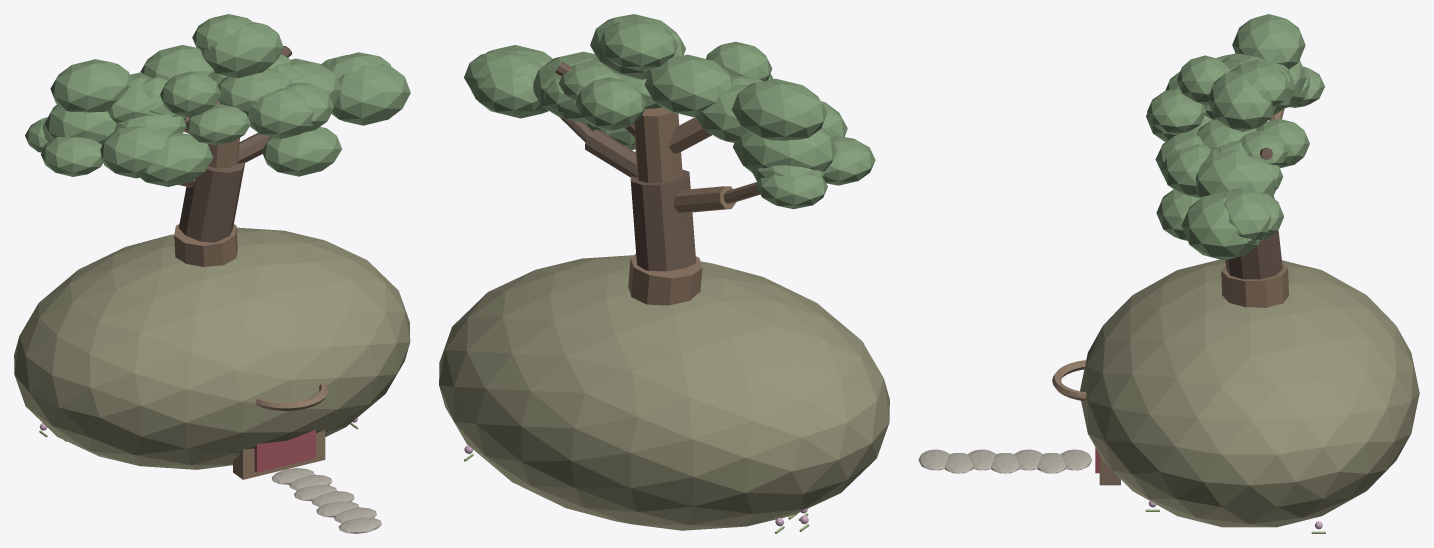
The model's file is Midgard_Ash_Grove_Mound_V1_YUP.glb.
The picture shows the model from 3 angles, left to right: view 1: azimuth 30°, elevation 25°; view 2: azimuth 150°, elevation 25°; view 3: azimuth 270°, elevation 25°; orthographic projection. The views are drawn at different scales.
Visible parts, largest first — view 1: Mound_Core, Trunk_1, Leaf_13, Leaf_9, Leaf_3, Leaf_7, Leaf_22, Leaf_14, Leaf_15, Leaf_26, Leaf_0, Leaf_6 (+18 smaller); view 2: Mound_Core, Trunk_1, Leaf_9, Leaf_2, Leaf_11, Leaf_16, Trunk_2, Leaf_27, Trunk_0, Leaf_21, Leaf_24, Leaf_0 (+13 smaller); view 3: Mound_Core, Leaf_13, Leaf_4, Leaf_9, Leaf_3, Trunk_0, Leaf_6, Leaf_29, Trunk_1, Leaf_23, Leaf_26, Leaf_11 (+6 smaller).
Boxes of the visible parts, x1=… form: Mound_Core: x1=14, y1=227, x2=410, y2=469; Trunk_1: x1=179, y1=162, x2=244, y2=242; Leaf_13: x1=331, y1=64, x2=410, y2=125; Leaf_9: x1=50, y1=59, x2=132, y2=112; Leaf_3: x1=201, y1=22, x2=283, y2=78; Leaf_7: x1=261, y1=126, x2=341, y2=176; Leaf_22: x1=100, y1=126, x2=170, y2=178; Leaf_14: x1=140, y1=132, x2=212, y2=186; Leaf_15: x1=246, y1=87, x2=313, y2=139; Leaf_26: x1=160, y1=71, x2=220, y2=117; Leaf_0: x1=40, y1=136, x2=103, y2=176; Leaf_6: x1=186, y1=104, x2=250, y2=145; Mound_Core: x1=439, y1=255, x2=889, y2=530; Trunk_1: x1=630, y1=169, x2=695, y2=271; Leaf_9: x1=731, y1=79, x2=827, y2=140; Leaf_2: x1=644, y1=54, x2=732, y2=117; Leaf_11: x1=598, y1=18, x2=678, y2=71; Leaf_16: x1=733, y1=127, x2=836, y2=172; Trunk_2: x1=634, y1=107, x2=682, y2=182; Leaf_27: x1=575, y1=77, x2=646, y2=130; Trunk_0: x1=628, y1=254, x2=702, y2=305; Leaf_21: x1=471, y1=72, x2=540, y2=116; Leaf_24: x1=755, y1=174, x2=827, y2=209; Leaf_0: x1=823, y1=135, x2=875, y2=185; Mound_Core: x1=1080, y1=259, x2=1419, y2=527; Leaf_13: x1=1181, y1=191, x2=1260, y2=260; Leaf_4: x1=1195, y1=148, x2=1275, y2=197; Leaf_9: x1=1232, y1=14, x2=1305, y2=69; Leaf_3: x1=1207, y1=70, x2=1275, y2=131; Trunk_0: x1=1221, y1=262, x2=1288, y2=307; Leaf_6: x1=1147, y1=89, x2=1205, y2=134; Leaf_29: x1=1223, y1=187, x2=1270, y2=242; Trunk_1: x1=1225, y1=196, x2=1282, y2=279; Leaf_23: x1=1160, y1=144, x2=1211, y2=197; Leaf_26: x1=1177, y1=55, x2=1230, y2=104; Leaf_11: x1=1235, y1=62, x2=1290, y2=106.
Bounding box in the file's own units: 8.64 × 9.48 × 9.9.
